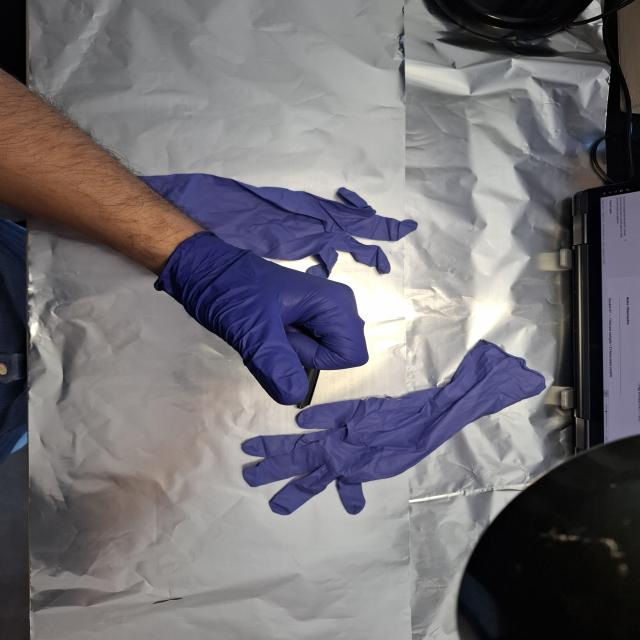glove_on: (150, 229, 372, 407)
